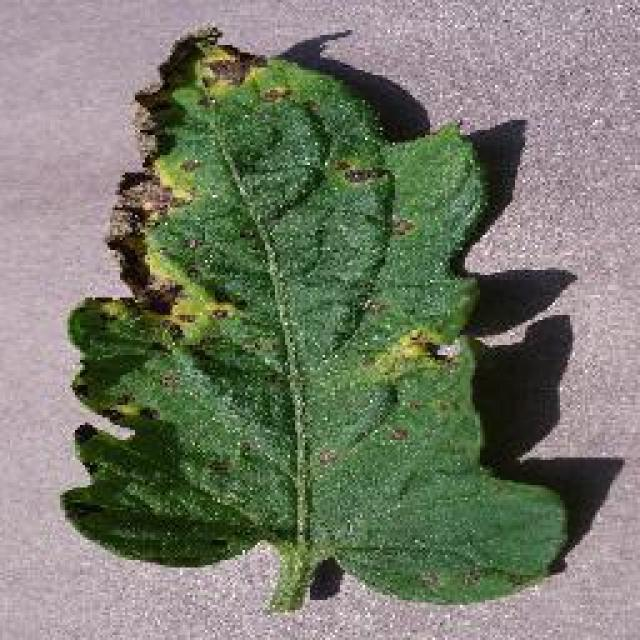Tomato target spot leaf: (59, 20, 574, 608)
